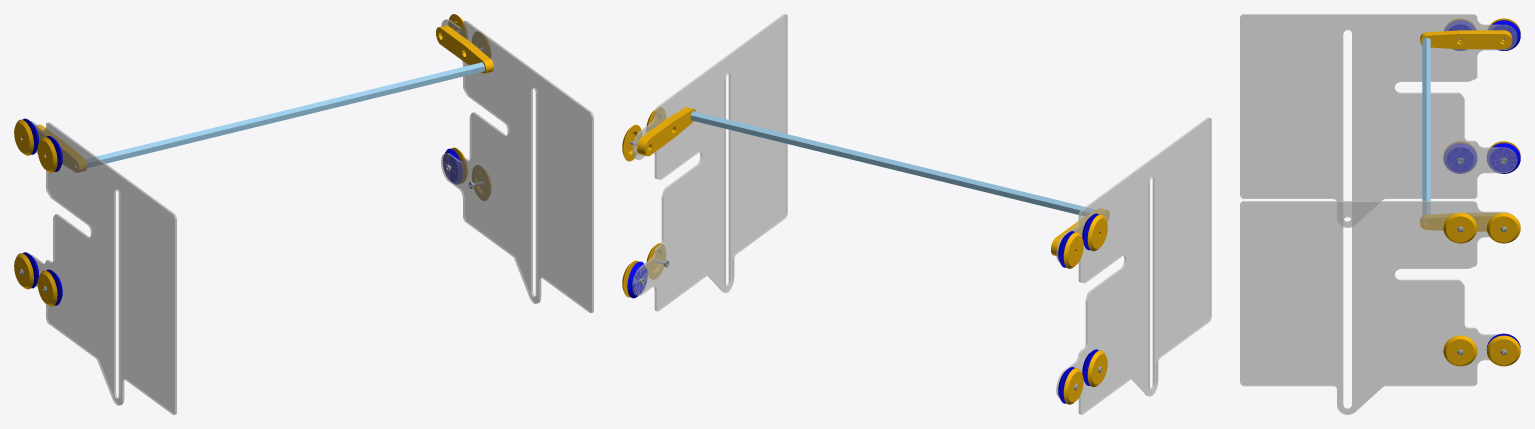
3 views of the same model, side by side, from view 1: azimuth 30°, elevation 25°; view 2: azimuth 150°, elevation 25°; view 3: azimuth 270°, elevation 25° (orthographic). The views are drawn at different scales.
Parts seen in each view (by area): view 1: 157-26-IN-P-27 (×2), Part 71, 157-26-IN-P-32 (×4), Part 70 (×2); view 2: 157-26-IN-P-27 (×2), Part 71, 157-26-IN-P-32 (×4), Part 70, 157-26-IN-P-33; view 3: 157-26-IN-P-27 (×2), 157-26-IN-P-32 (×4), Part 70 (×2), 157-26-IN-P-33 (×4), Part 71.
Boxes of the visible parts, x1,y1,x2,y2 form: 157-26-IN-P-27 (×2): (30,19,593,414); Part 71: (85,62,484,167); 157-26-IN-P-32 (×4): (14,119,57,306); Part 70 (×2): (35,25,493,172); 157-26-IN-P-27 (×2): (632,14,1211,414); Part 71: (690,111,1095,215); 157-26-IN-P-32 (×4): (1063,214,1107,404); Part 70: (637,107,696,156); 157-26-IN-P-33: (627,261,647,298); 157-26-IN-P-27 (×2): (1240,14,1517,414); 157-26-IN-P-32 (×4): (1443,212,1520,366); Part 70 (×2): (1420,30,1512,231); 157-26-IN-P-33 (×4): (1443,20,1520,173); Part 71: (1422,37,1430,223).
Size of the model in its own units: 0.7028 by 0.3525 by 0.4208.
